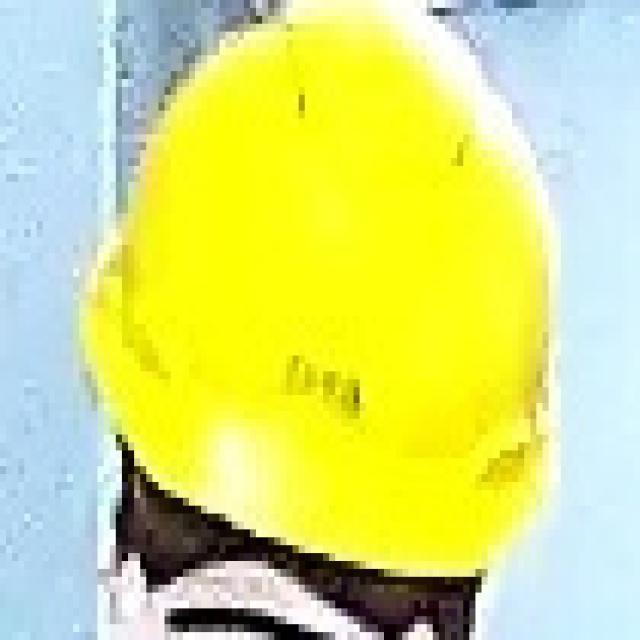yellow helmet: (74, 1, 563, 583)
